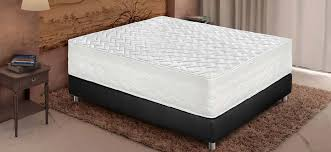bed-matress: (66, 14, 292, 119)
